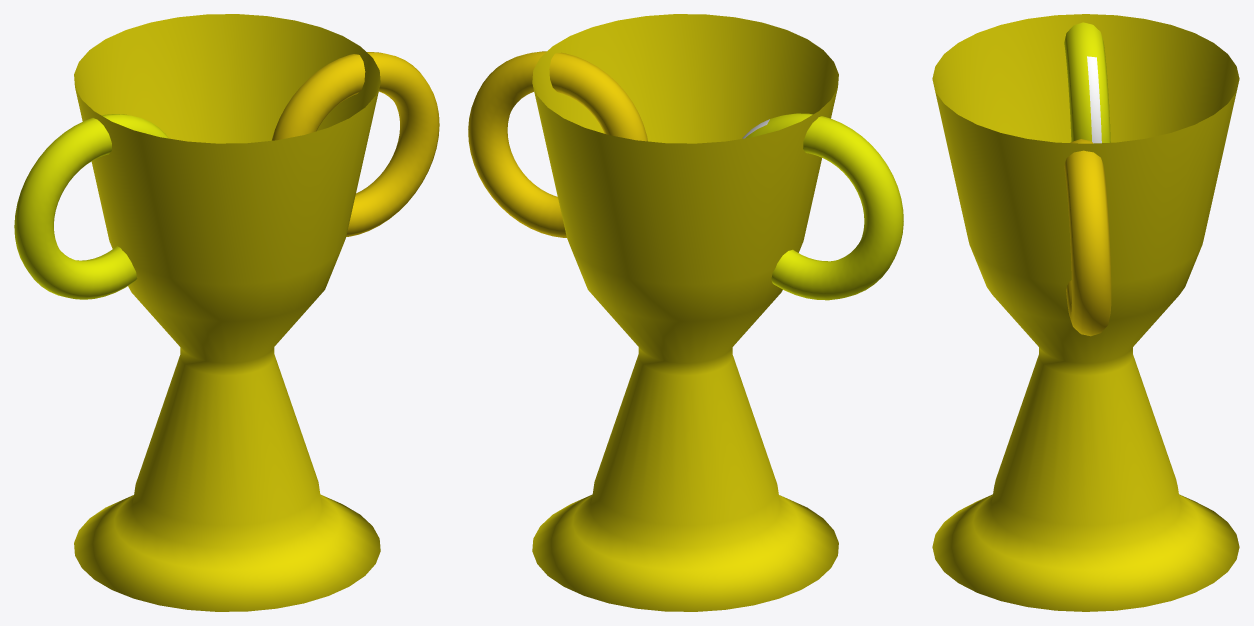
File: logros.glb
The picture shows the model from 3 angles, left to right: view 1: azimuth 30°, elevation 25°; view 2: azimuth 150°, elevation 25°; view 3: azimuth 270°, elevation 25°; orthographic projection.
Parts seen in each view (by area): view 1: Cilindro, Rosca.001, Rosca; view 2: Cilindro, Rosca.001, Rosca; view 3: Cilindro, Rosca.001, Rosca.
Part boxes in pixels (bbox=[...]): Cilindro: bbox=[74, 14, 380, 611]; Rosca.001: bbox=[272, 52, 439, 236]; Rosca: bbox=[14, 114, 168, 299]; Cilindro: bbox=[532, 14, 838, 611]; Rosca.001: bbox=[468, 51, 647, 237]; Rosca: bbox=[742, 113, 903, 300]; Cilindro: bbox=[932, 14, 1239, 611]; Rosca.001: bbox=[1064, 139, 1111, 336]; Rosca: bbox=[1064, 22, 1110, 143].
Size of the model in its own units: 2.53 by 2.66 by 1.58.
